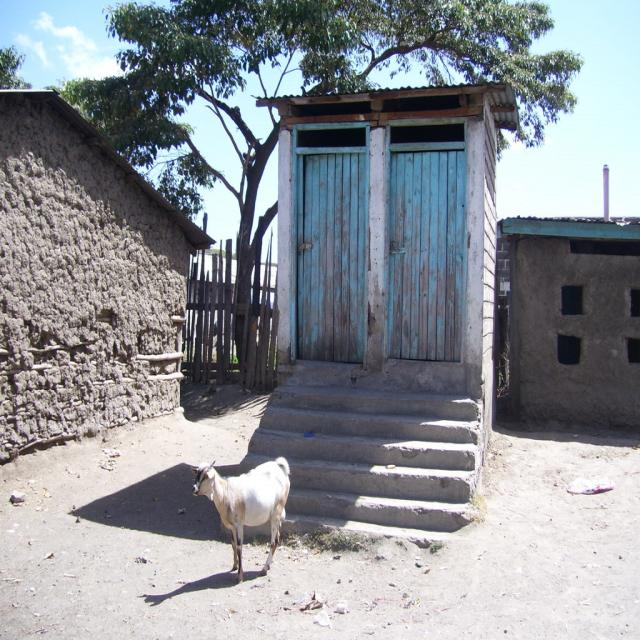Goat: (185, 452, 293, 587)
